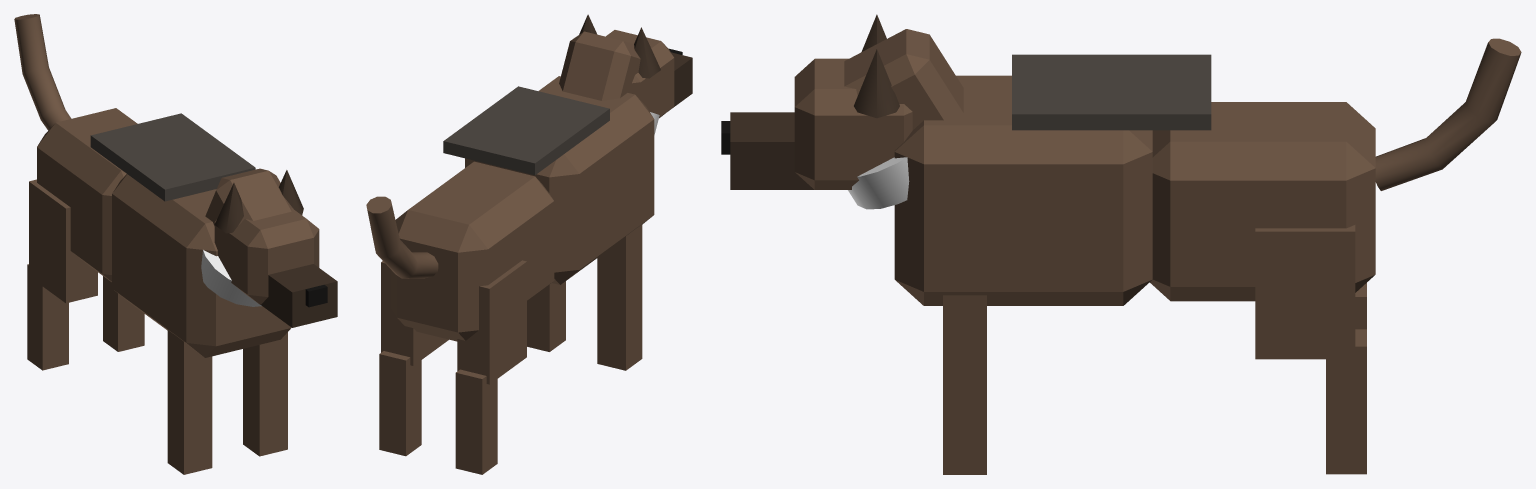
3 views of the same model, side by side, from view 1: azimuth 30°, elevation 25°; view 2: azimuth 150°, elevation 25°; view 3: azimuth 270°, elevation 25° (orthographic). The views are drawn at different scales.
Parts seen in each view (by area): view 1: raider_body_hound; view 2: raider_body_hound; view 3: raider_body_hound.
Boxes of the visible parts, bbox=[...] form: raider_body_hound: bbox=[14, 14, 337, 474]; raider_body_hound: bbox=[366, 14, 692, 474]; raider_body_hound: bbox=[721, 14, 1521, 474].
Size of the model in its own units: 0.3 by 0.77 by 1.36.
